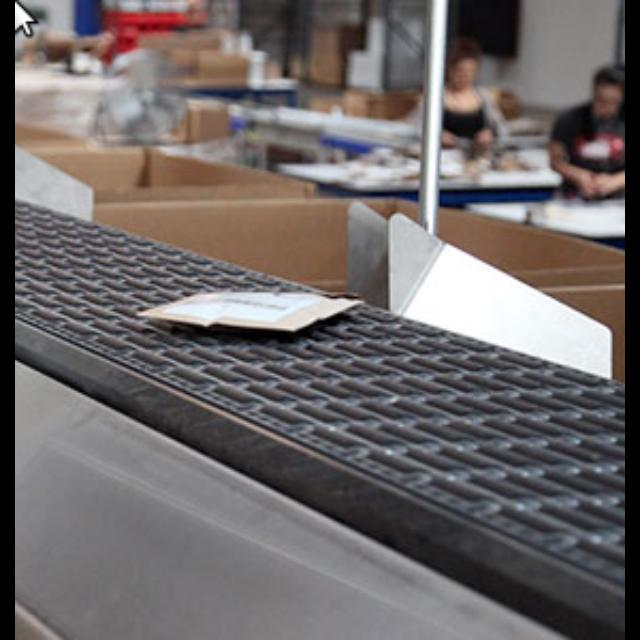mailer: (156, 288, 362, 340)
